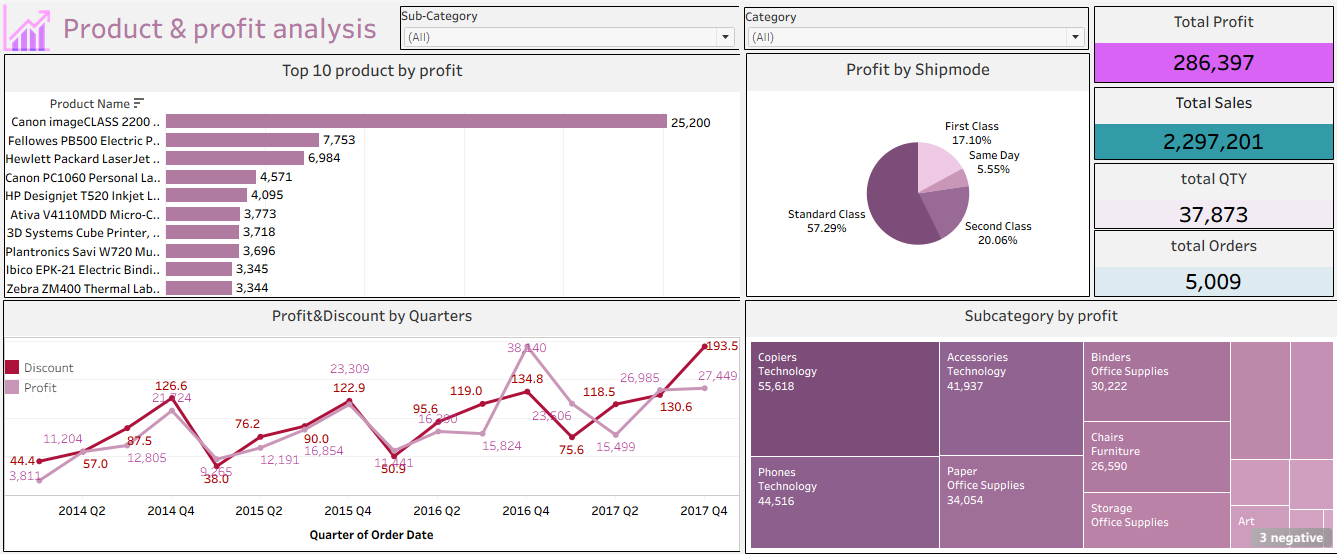

What the dashboard file says about the page in this screenshot:
{"tool":"tableau","page":{"name":"Product & Profitability","canvas":[1000,1000],"units":"permille","ordinal":1},"visuals":[{"type":"text","box":[45.7,1.8,329.4,88.8]},{"type":"image","param":"C:/Users/paragon/Downloads/bar-chart.png","box":[2.7,3.6,102.1,85.1]},{"type":"filter","title":"Subcategory by profit","param":"[federated.01d47lb1yux3pj1e7rsqf0ced0a5].[none:Sub-Category:nk]","box":[299,7.2,253.4,79.7]},{"type":"worksheet","title":"Total Profit","mark":"Automatic","box":[817.4,7.2,179.1,139.5]},{"type":"filter","title":"Subcategory by profit","param":"[federated.01d47lb1yux3pj1e7rsqf0ced0a5].[none:Category:nk]","box":[556,9.1,257.8,77.9]},{"type":"worksheet","title":"Profit by Shipmode","mark":"Pie","box":[557.7,92.4,256.9,442]},{"type":"worksheet","title":"Top 10 product by profit","mark":"Automatic","rows":["Product Name"],"cols":["Profit"],"box":[3.6,94.2,549.7,442]},{"type":"worksheet","title":"Total Sales","mark":"Automatic","box":[817.4,154,179.1,132.2]},{"type":"worksheet","title":"total QTY","mark":"Automatic","box":[817.4,291.7,179.1,119.6]},{"type":"worksheet","title":"total Orders","mark":"Automatic","box":[817.4,413,179.1,121.4]},{"type":"worksheet","title":"Profit&Discount by Quarters","mark":"Automatic","rows":["Discount","Profit"],"cols":["Order Date"],"box":[2.7,539.9,550.6,456.5]},{"type":"worksheet","title":"Subcategory by profit","mark":"Automatic","box":[556.5,539.9,442.7,460.1]},{"type":"legend","title":"Profit&Discount by Quarters","param":"[federated.01d47lb1yux3pj1e7rsqf0ced0a5].[:Measure Names]","box":[2.6,610.5,112.7,106.9]}]}

Visuals, with their boxes on the dashboard's canvas, which has no fixed pixel size, in thousandths of its width and height (x1, y1, x2, y2). These are canvas units, not pixel positions in the 1337x554 screenshot, which may show the page scaled, cropped or inside an application window:
text: 46, 2, 375, 91
image: 3, 4, 105, 89
"Subcategory by profit" filter: 299, 7, 552, 87
"Total Profit" worksheet: 817, 7, 996, 147
"Subcategory by profit" filter: 556, 9, 814, 87
"Profit by Shipmode" worksheet (Pie marks): 558, 92, 815, 534
"Top 10 product by profit" worksheet: 4, 94, 553, 536
"Total Sales" worksheet: 817, 154, 996, 286
"total QTY" worksheet: 817, 292, 996, 411
"total Orders" worksheet: 817, 413, 996, 534
"Profit&Discount by Quarters" worksheet: 3, 540, 553, 996
"Subcategory by profit" worksheet: 556, 540, 999, 1000
"Profit&Discount by Quarters" legend: 3, 610, 115, 717
